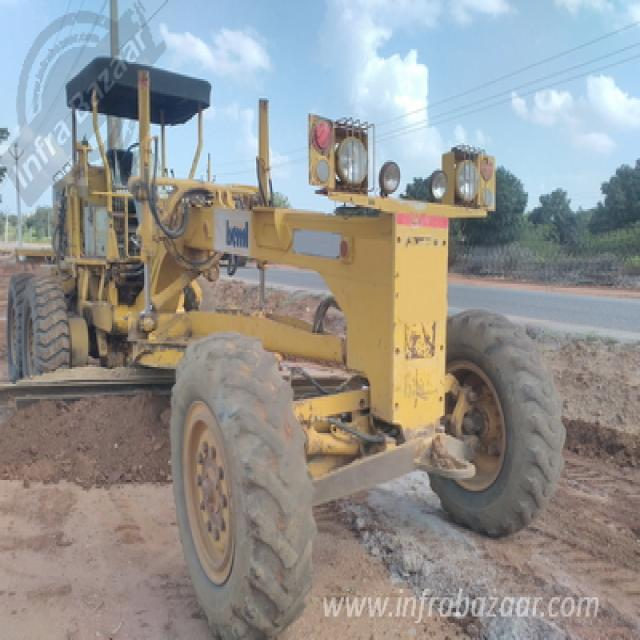buldozerpayloadergrader: (6, 37, 561, 631)
